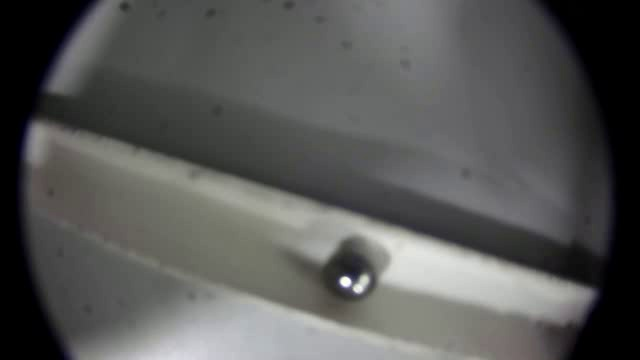gangzhu: (320, 248, 380, 302)
